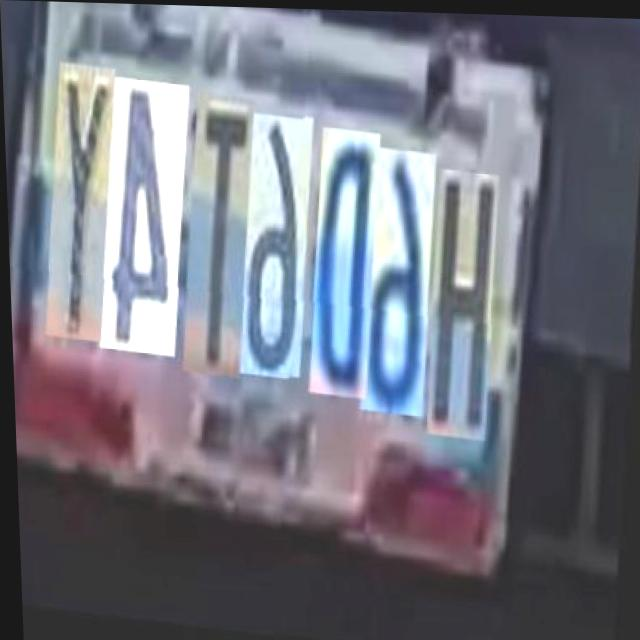4: (96, 86, 200, 365)
6: (358, 152, 447, 422), (236, 118, 323, 385)
d: (305, 134, 390, 406)
h: (424, 172, 509, 444)
t: (179, 99, 265, 386)
y: (43, 73, 127, 353)
